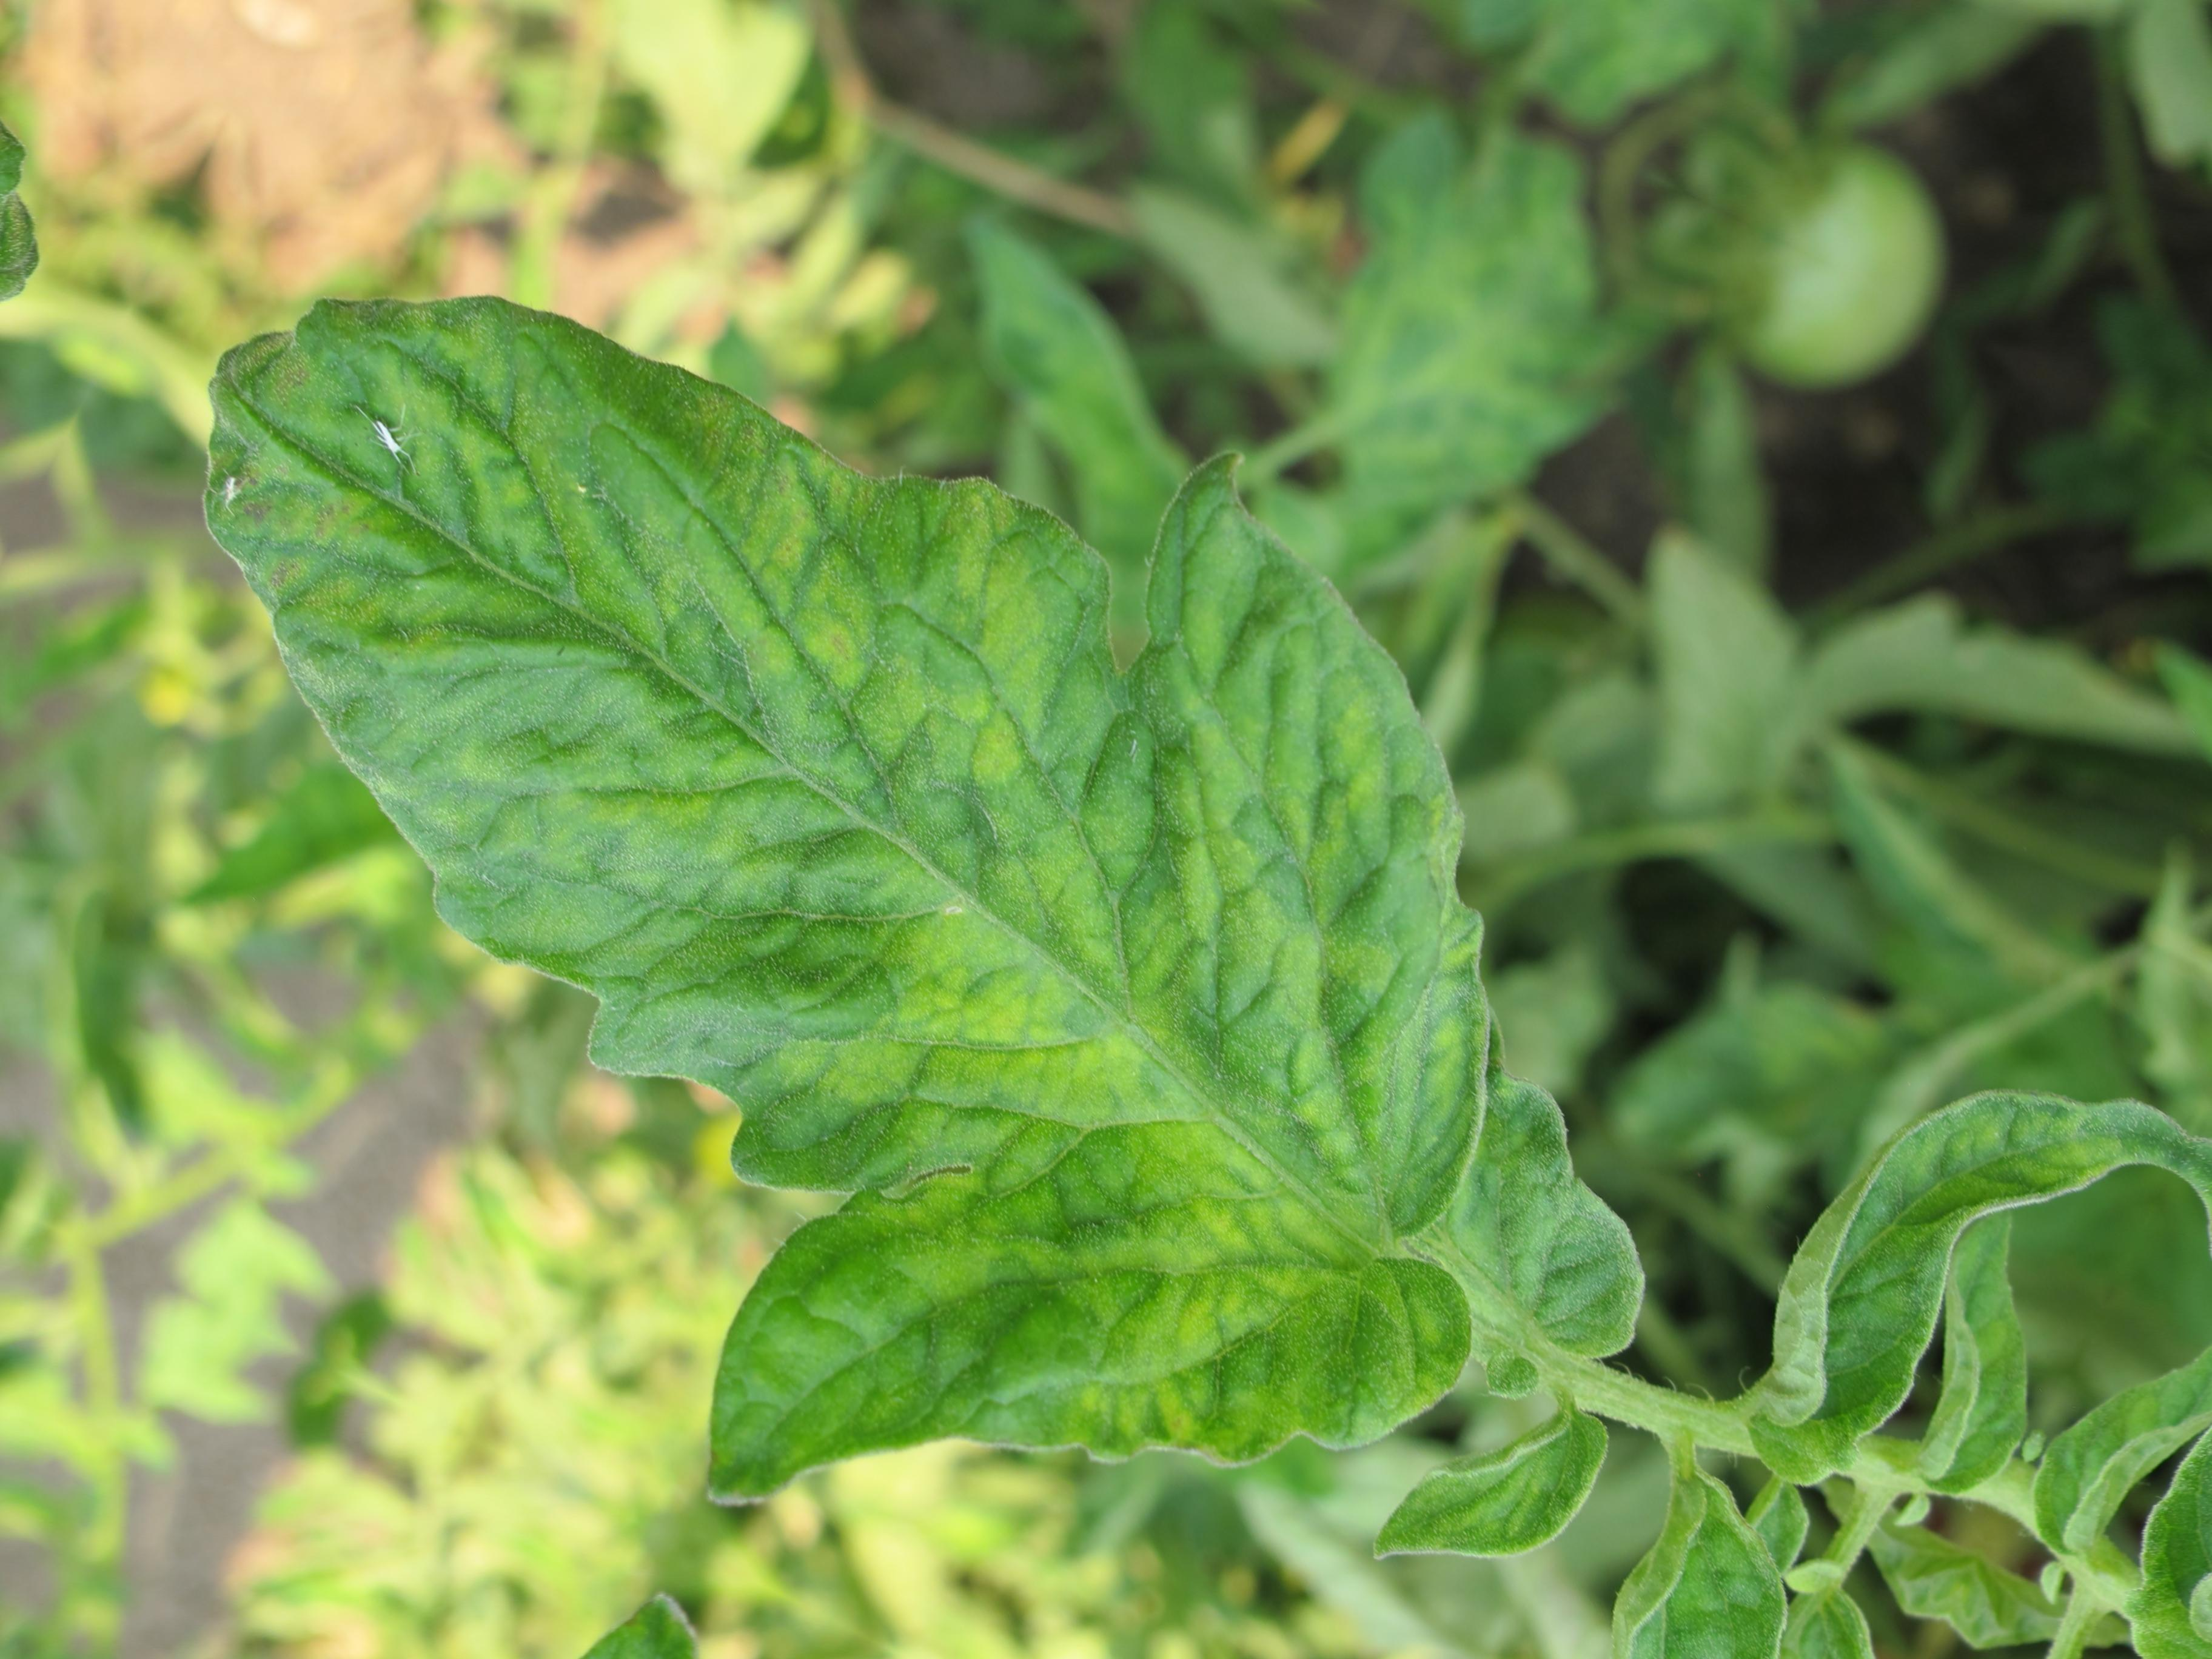Tomato leaf mosaic virus: (0, 0, 1951, 1659)
